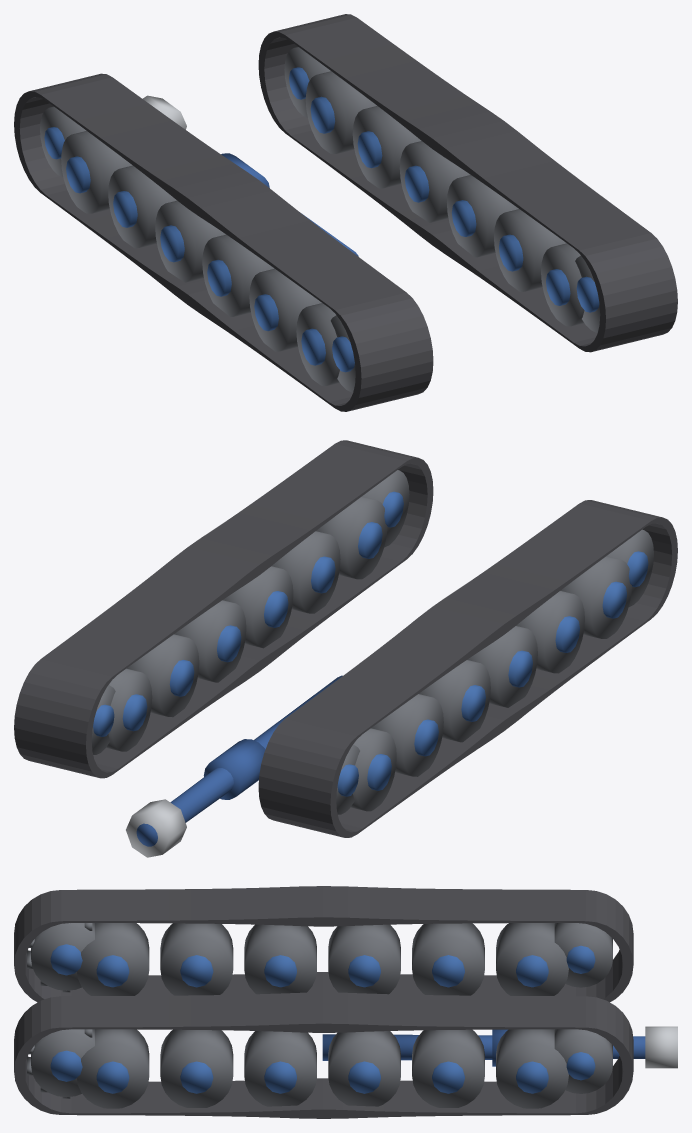
The model's file is gear.glb.
3 renders of one model, top to bottom at view 1: azimuth 30°, elevation 25°; view 2: azimuth 150°, elevation 25°; view 3: azimuth 270°, elevation 25°, orthographic. The views are drawn at different scales.
Visible parts, largest first — view 1: Track_L, Track_R, Wheel_L_1, Wheel_R_1, Wheel_L_5, Wheel_R_5, Wheel_L_2, Wheel_R_2, Wheel_L_4, Wheel_R_4, Wheel_L_3, Wheel_R_3 (+7 smaller); view 2: Track_L, Track_R, Barrel, Wheel_L_4, Wheel_R_4, Wheel_R_0, Wheel_L_0, Wheel_L_3, Wheel_R_3, Wheel_L_1, Wheel_R_1, Wheel_L_2 (+7 smaller); view 3: Track_R, Track_L, Wheel_R_1, Wheel_R_4, Wheel_R_2, Wheel_R_3, Wheel_L_1, Wheel_L_4, Wheel_R_5, Wheel_R_0, Wheel_L_2, Wheel_L_3 (+7 smaller).
Part boxes in pixels (box(x1,y1,x2,y2)): Track_L: box(14, 73, 433, 411); Track_R: box(258, 14, 677, 352); Wheel_L_1: box(249, 268, 321, 351); Wheel_R_1: box(494, 209, 566, 291); Wheel_L_5: box(61, 131, 132, 213); Wheel_R_5: box(305, 71, 376, 153); Wheel_L_2: box(202, 234, 274, 316); Wheel_R_2: box(447, 175, 518, 257); Wheel_L_4: box(108, 165, 176, 248); Wheel_R_4: box(352, 106, 421, 188); Wheel_L_3: box(155, 200, 225, 282); Wheel_R_3: box(399, 141, 470, 222); Track_L: box(258, 500, 677, 837); Track_R: box(14, 440, 433, 778); Barrel: box(126, 675, 342, 857); Wheel_L_4: box(371, 694, 443, 776); Wheel_R_4: box(126, 634, 199, 717); Wheel_R_0: box(316, 496, 387, 579); Wheel_L_0: box(560, 556, 631, 638); Wheel_L_3: box(419, 660, 490, 742); Wheel_R_3: box(174, 600, 246, 682); Wheel_L_1: box(516, 591, 584, 673); Wheel_R_1: box(271, 531, 340, 613); Wheel_L_2: box(467, 626, 537, 707); Track_R: box(14, 992, 633, 1118); Track_L: box(14, 886, 633, 1002); Wheel_R_1: box(160, 1029, 233, 1107); Wheel_R_4: box(412, 1029, 484, 1107); Wheel_R_2: box(244, 1031, 316, 1106); Wheel_R_3: box(328, 1031, 400, 1106); Wheel_L_1: box(160, 923, 233, 995); Wheel_L_4: box(412, 923, 484, 995); Wheel_R_5: box(496, 1029, 568, 1108); Wheel_R_0: box(77, 1029, 149, 1108); Wheel_L_2: box(244, 924, 316, 994); Wheel_L_3: box(328, 924, 400, 994).
Bounding box in the file's own units: 2.2 × 0.841 × 4.49.
